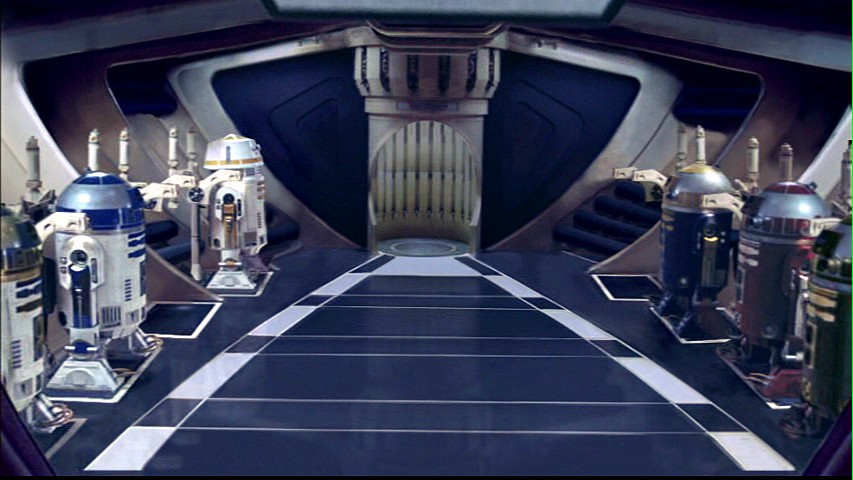r2d2: (45, 172, 157, 392)
